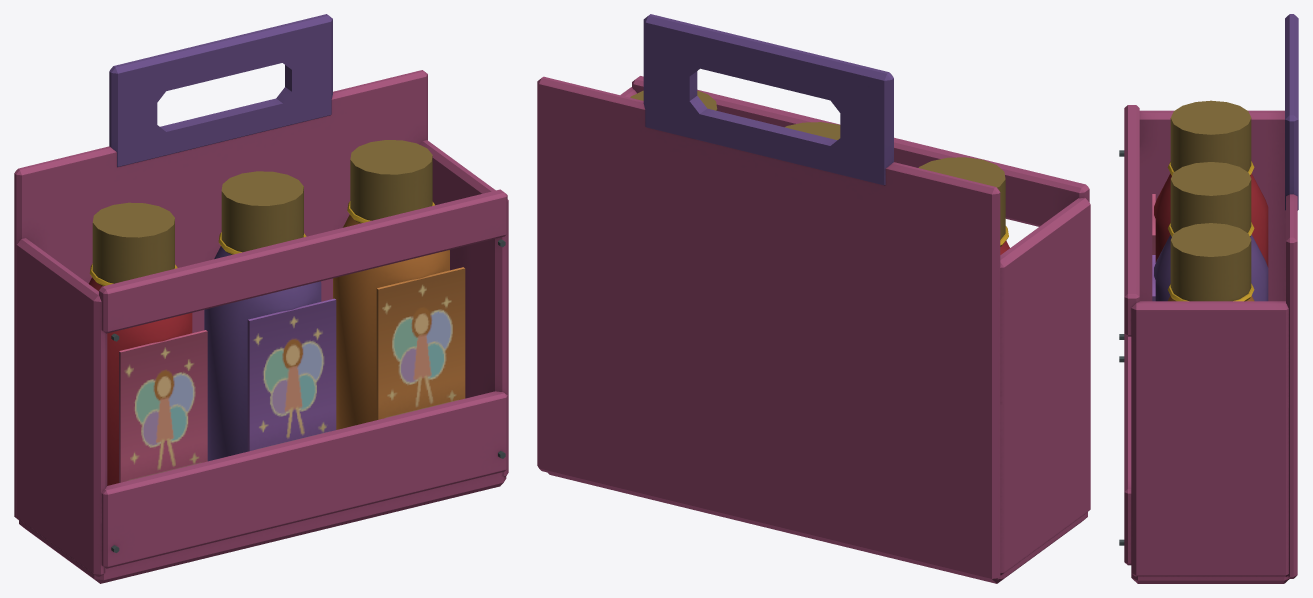
File: bath_gift_set.glb
3 views of the same model, side by side, from view 1: azimuth 30°, elevation 25°; view 2: azimuth 150°, elevation 25°; view 3: azimuth 270°, elevation 25° (orthographic). The views are drawn at different scales.
Visible parts, largest first — view 1: bath_gift_set_static_0; view 2: bath_gift_set_static_0; view 3: bath_gift_set_static_0.
Part boxes in pixels (<box>): bath_gift_set_static_0: <box>14,14,508,583</box>; bath_gift_set_static_0: <box>537,14,1090,583</box>; bath_gift_set_static_0: <box>1119,14,1298,583</box>.
Size of the model in its own units: 0.277 by 0.2785 by 0.1065.
1 material, 1 textured.
